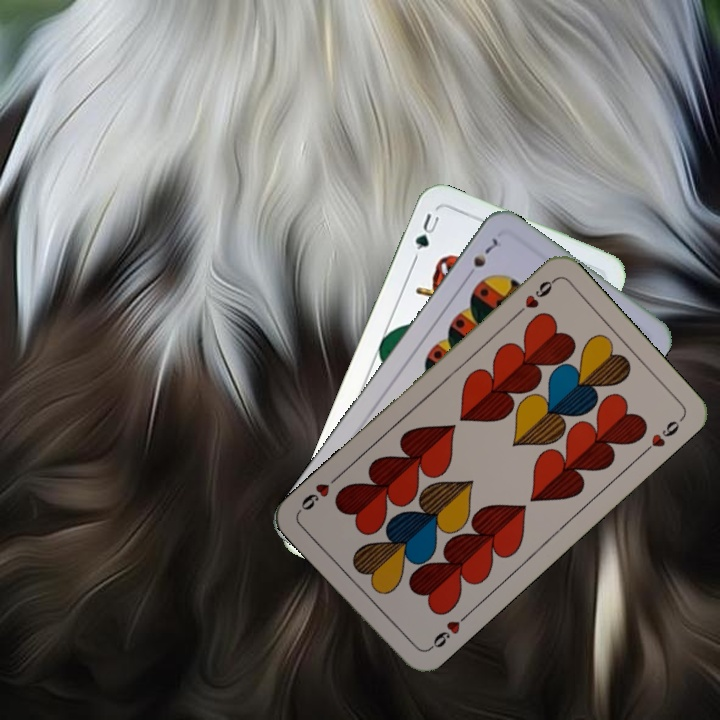GU: (411, 209, 442, 253)
H9: (511, 274, 558, 320), (423, 609, 471, 654)
S7: (461, 233, 504, 282)
